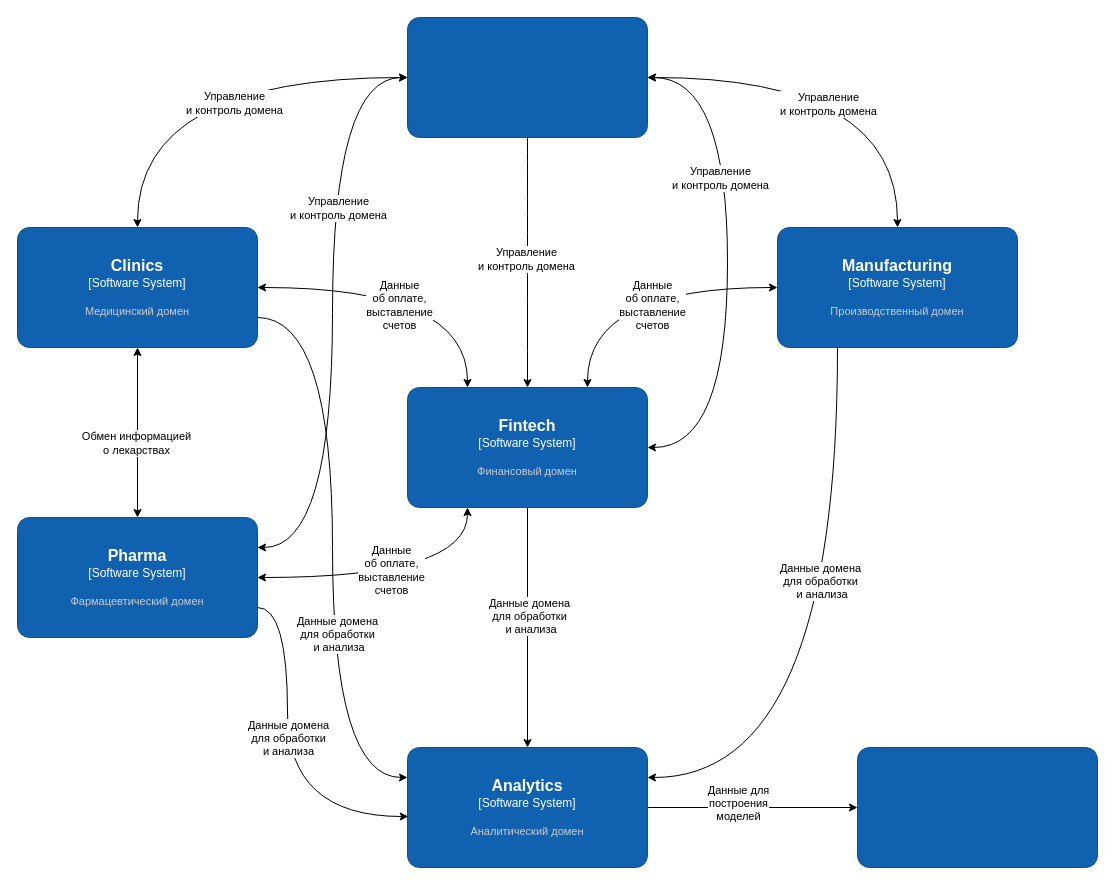
This 1115x885 diagram has some shape labels left out. Each missing label, with the centre of its shape:
AI [Software System] ИИ-сервисы: the point at 977,807
Management [Software System] Домен управления: the point at 527,77
